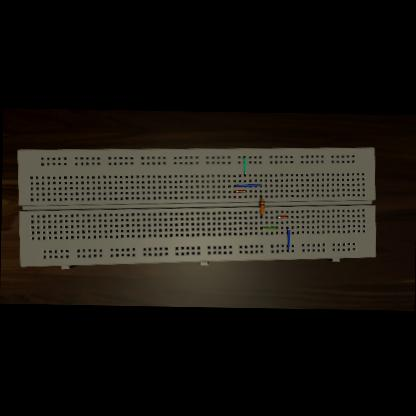breadboard: (14, 140, 376, 274)
resistor: (258, 198, 264, 212)
wire: (232, 182, 260, 185), (242, 154, 246, 174), (285, 226, 288, 250), (259, 226, 276, 228), (275, 214, 287, 216), (233, 188, 244, 190), (259, 212, 261, 216), (258, 194, 260, 198)
